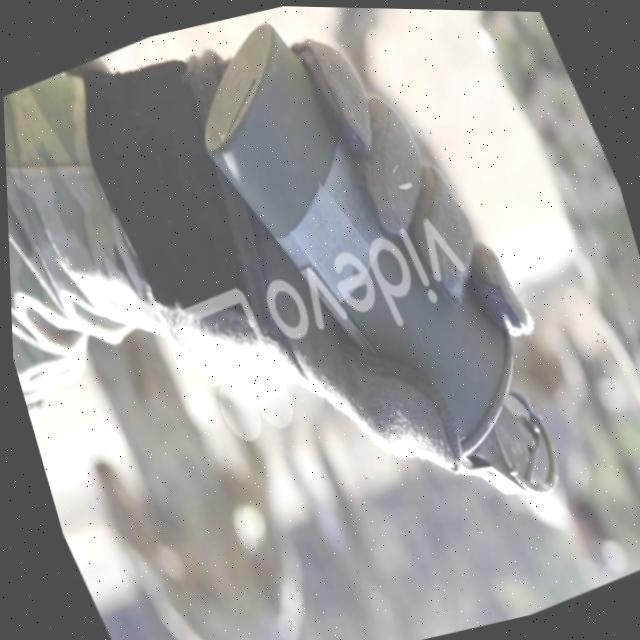grenade: (160, 3, 595, 580)
